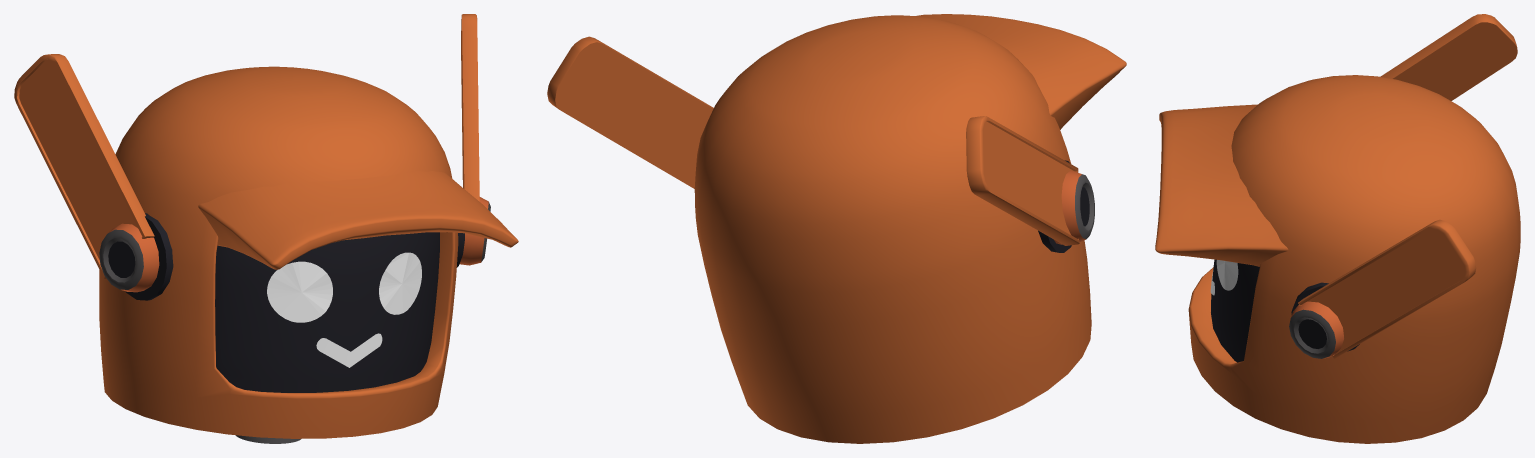
Rendered from Head.glb.
3 renders of one model, left to right at view 1: azimuth 30°, elevation 25°; view 2: azimuth 150°, elevation 25°; view 3: azimuth 270°, elevation 25°, orthographic. The views are drawn at different scales.
Visible parts, largest first — view 1: Head; view 2: Head; view 3: Head.
Part boxes in pixels (left/top/right/bottom): Head: left=14, top=14, right=518, bottom=443; Head: left=547, top=14, right=1126, bottom=443; Head: left=1155, top=14, right=1520, bottom=443.
Bounding box in the file's own units: 2.97 × 2.32 × 2.38.
